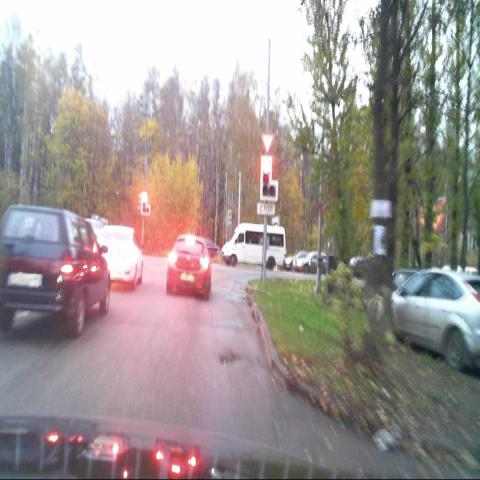2_4: (261, 133, 275, 156)
6_16: (256, 203, 274, 216)
